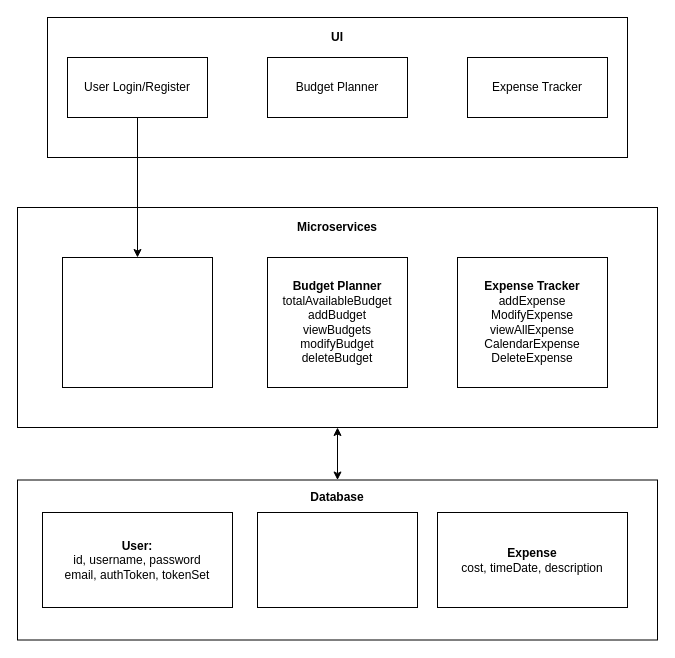
Some shapes in this 675 by 658 pixel diagram are drawn without their labels. The shapes that lost their labels are listed below. From the top down, each one's centre as x and y in pixels, then its label:
At point 137,322: "User APi RegisterUser ViewDetails EditDetails DeleteUser DownloadAllData".
At point 337,560: "Budget totalBudget, cost type, description time(weekly, monthly etc)".
